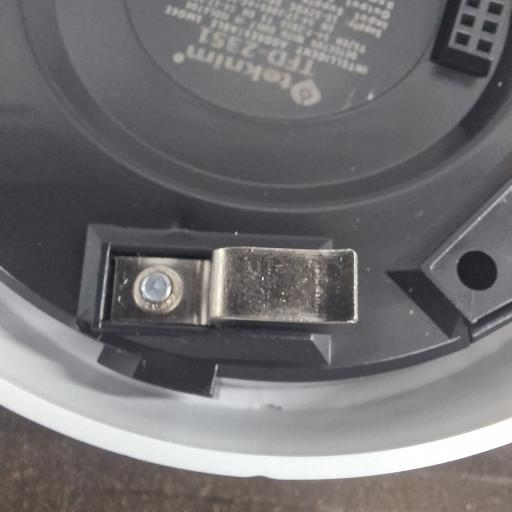yaysiz: (96, 242, 355, 330)
